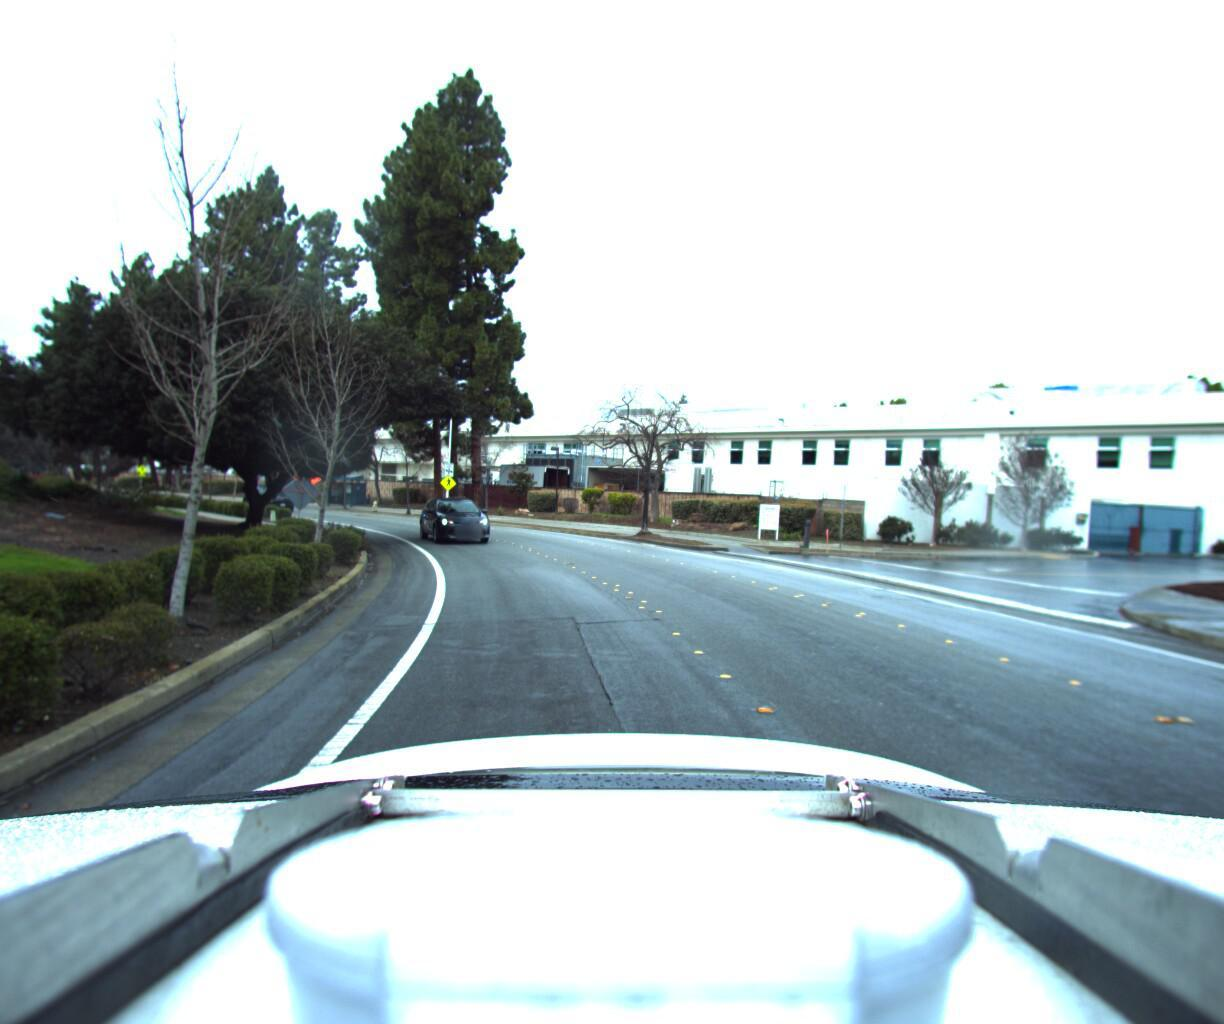car: (411, 491, 493, 546)
truck: (484, 457, 573, 503)
